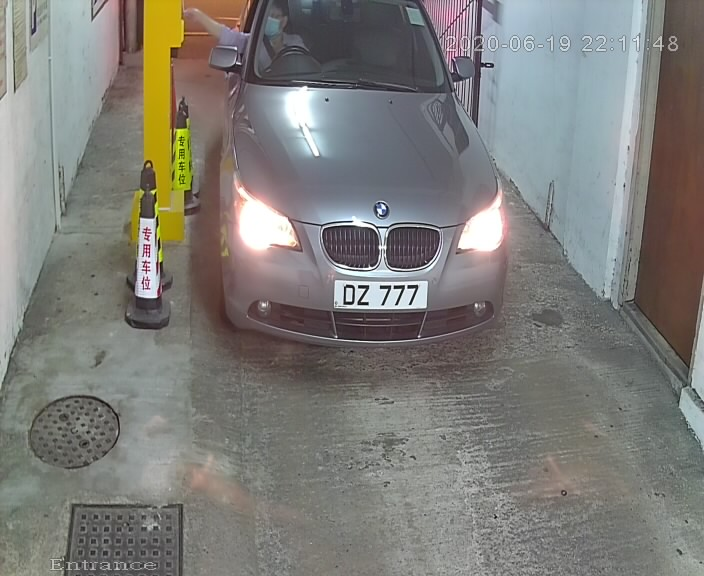privatecar: (174, 1, 538, 386)
